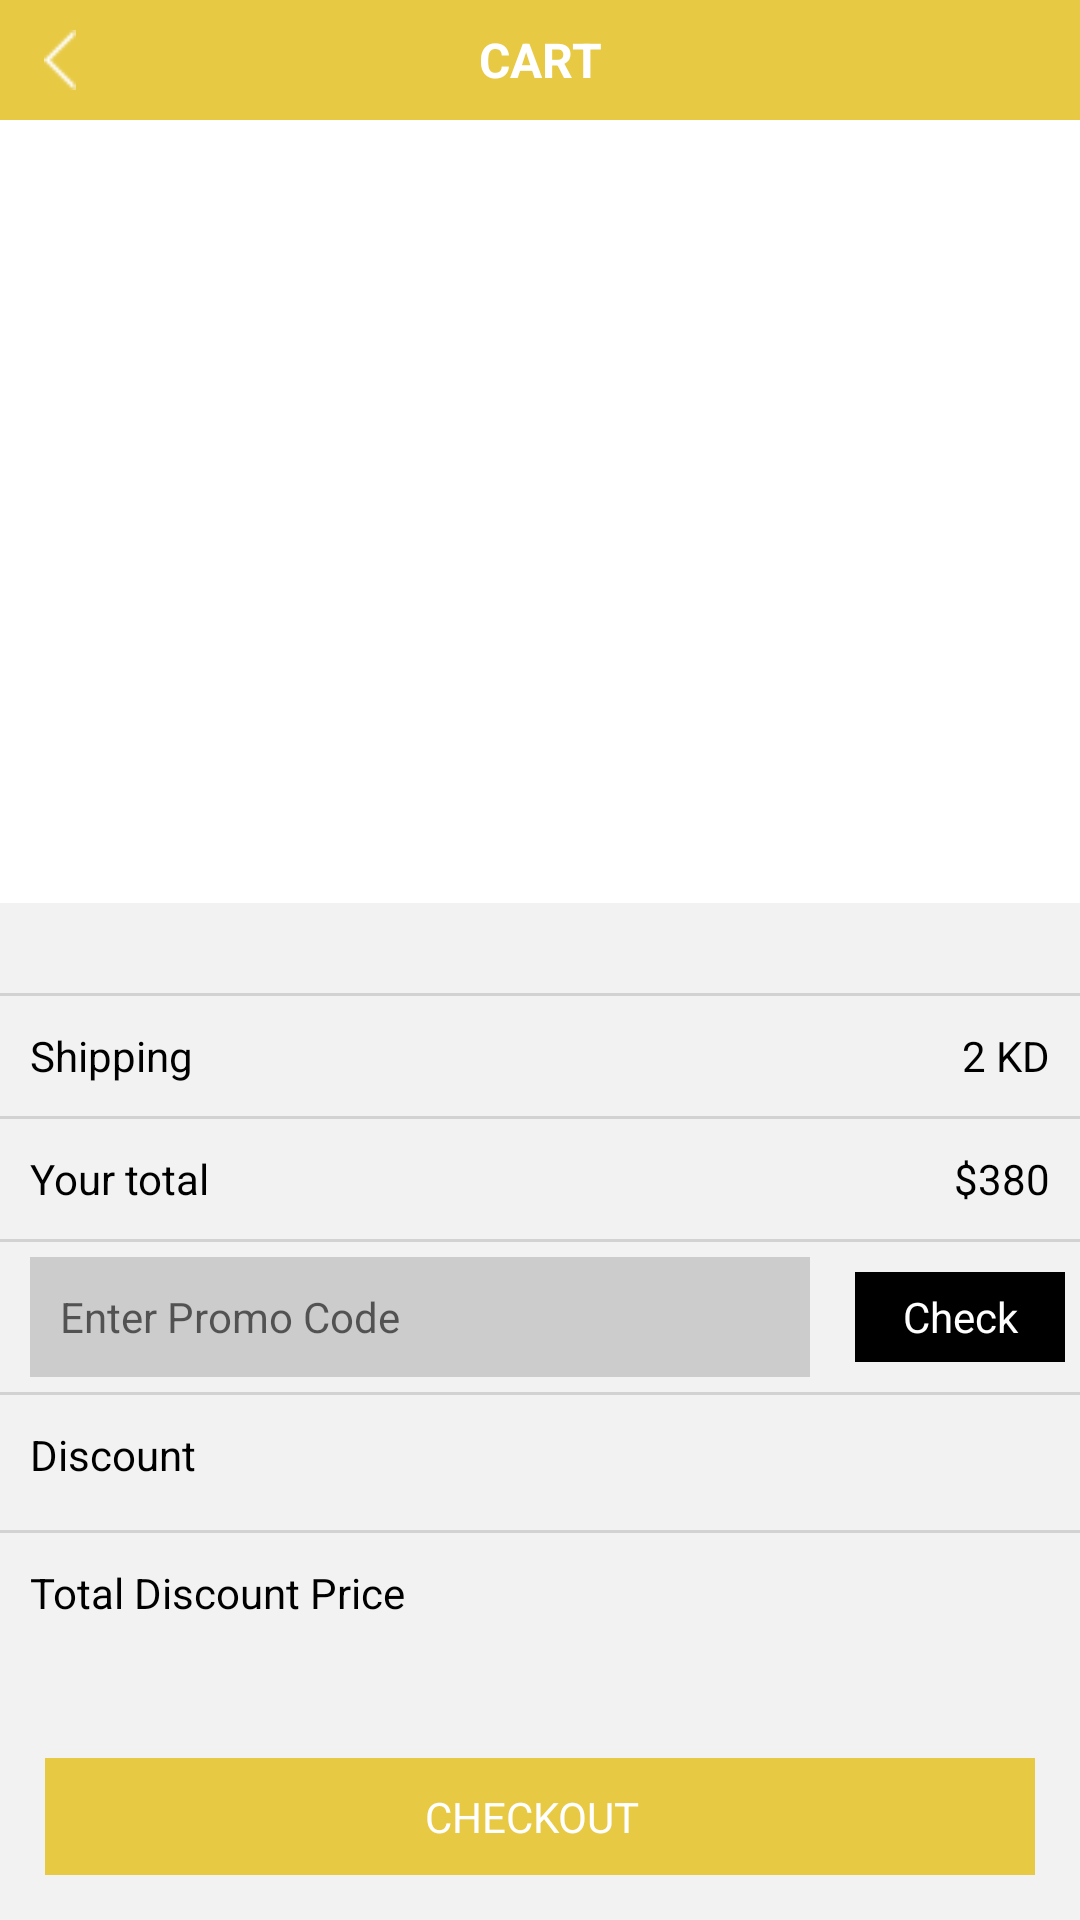

Where to tap for icons on this 1080px×1920px app screen, as (x,y):
back: (60,60)
